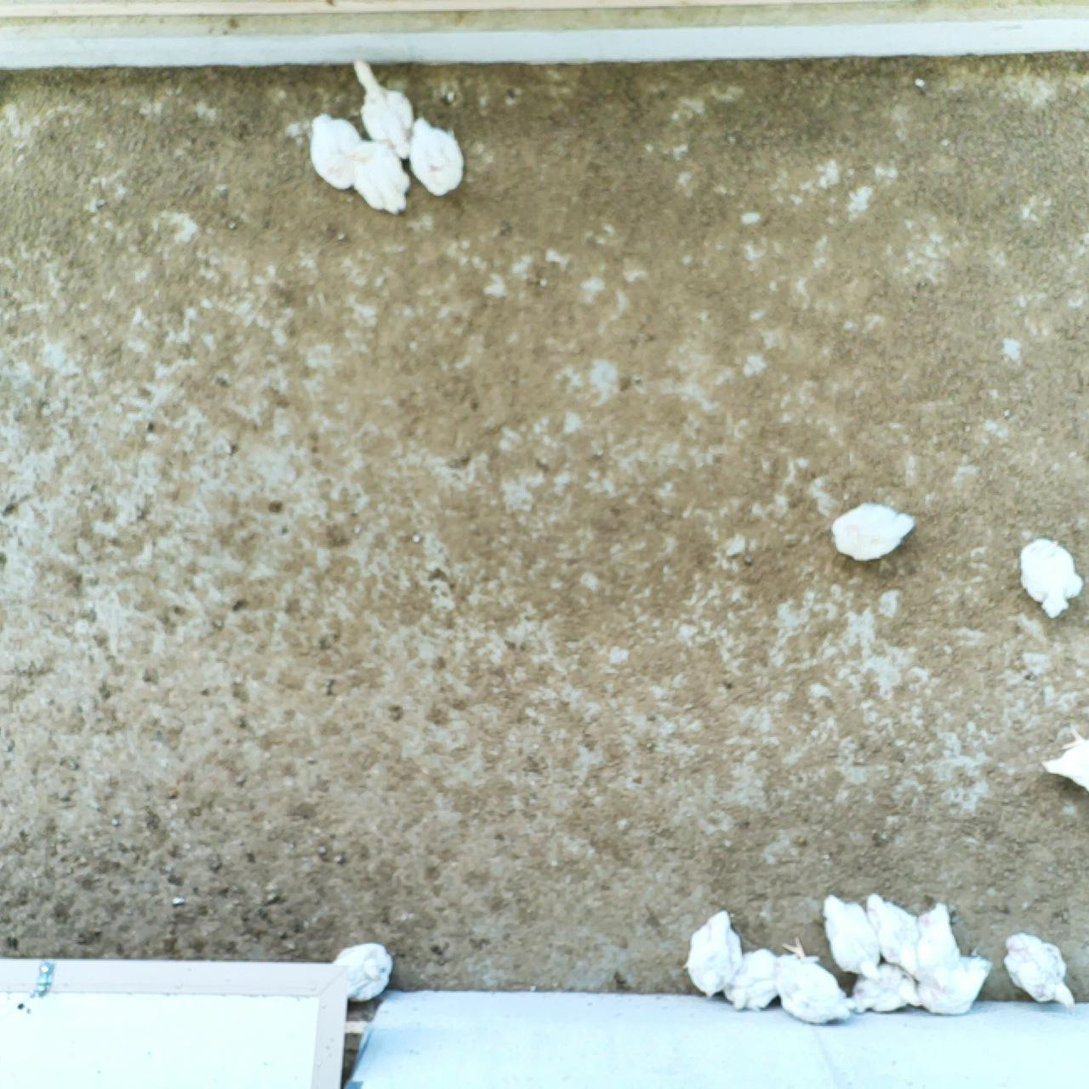chicken: (771, 936, 852, 1029), (348, 54, 415, 161), (1002, 927, 1075, 1013), (864, 890, 930, 982), (819, 888, 882, 983), (838, 951, 922, 1021), (685, 905, 744, 1004), (829, 500, 918, 564), (345, 131, 412, 214), (1014, 539, 1083, 619), (715, 948, 796, 1016), (316, 939, 394, 1006), (906, 901, 963, 991), (913, 954, 992, 1018), (404, 117, 466, 198), (305, 113, 363, 195), (1037, 729, 1089, 794)
